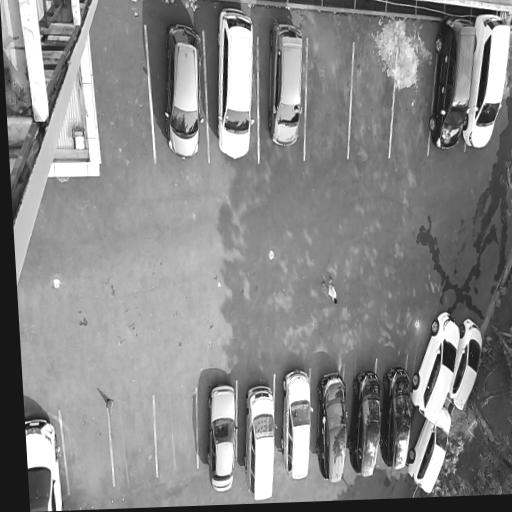Car: (464, 11, 512, 155), (429, 13, 477, 154), (410, 309, 462, 427), (217, 7, 255, 164), (163, 22, 204, 164), (266, 18, 305, 150), (405, 405, 454, 496), (347, 361, 382, 482), (444, 316, 485, 419), (24, 412, 66, 512), (379, 362, 414, 475), (316, 366, 349, 484), (205, 381, 237, 496), (245, 385, 276, 502), (281, 370, 313, 483)
Space Available: (95, 25, 154, 165), (305, 39, 353, 161), (348, 43, 395, 163), (390, 51, 437, 160), (59, 407, 113, 495), (109, 396, 158, 488), (153, 389, 197, 476)
